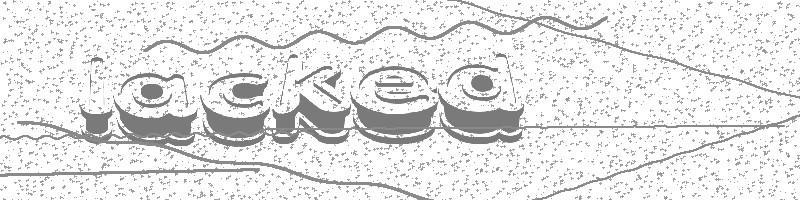a: (115, 73, 198, 146)
c: (202, 73, 270, 147)
d: (439, 55, 525, 145)
e: (352, 67, 438, 145)
k: (272, 55, 351, 144)
l: (80, 57, 115, 144)
